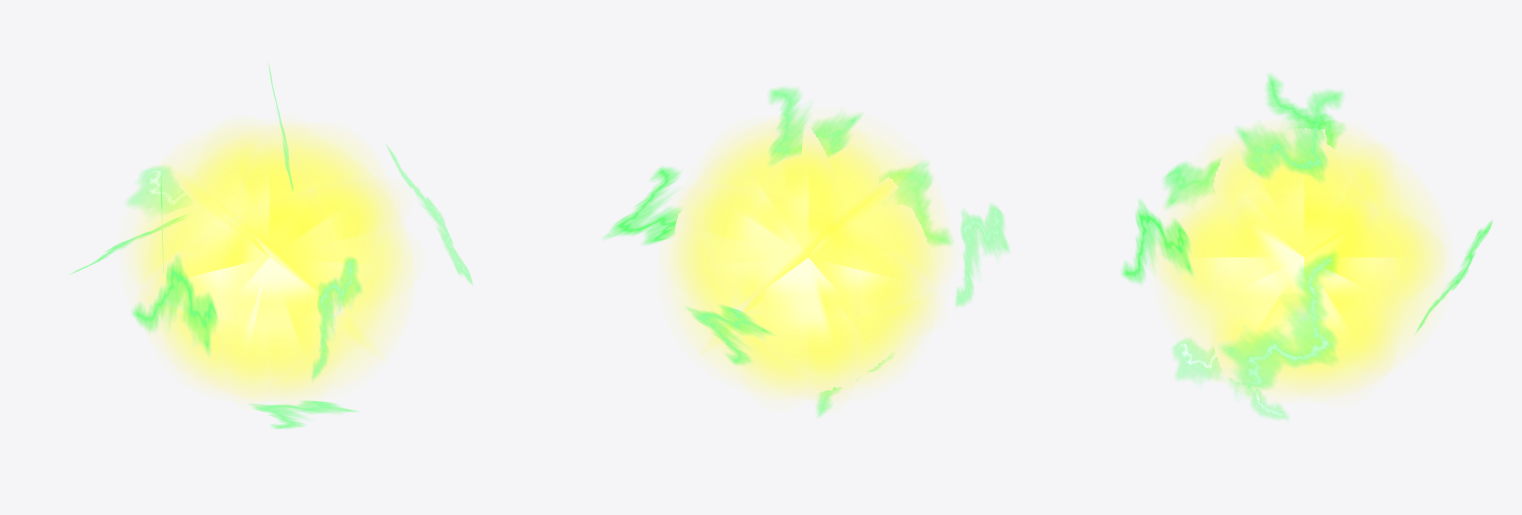
Rendered from explosive-orb.glb.
3 views of the same model, side by side, from view 1: azimuth 30°, elevation 25°; view 2: azimuth 150°, elevation 25°; view 3: azimuth 270°, elevation 25° (orthographic).
Visible parts, largest first — view 1: Plane.006_14, Plane.004_12, Plane.008_16, Plane.002_10, Plane.001_9, Plane.003_11, Plane.007_15, Plane.005_13, Plane.011_2, Plane.014_5, Plane.012_3, Plane.009_17 (+2 smaller); view 2: Plane.005_13, Plane.007_15, Plane.002_10, Plane.008_16, Plane.003_11, Plane.001_9, Plane.004_12, Plane.006_14, Plane_0, Plane.010_1, Plane.011_2, Plane.014_5 (+2 smaller); view 3: Plane.009_17, Plane.003_11, Plane.005_13, Plane.004_12, Plane.008_16, Plane.001_9, Plane.010_1, Plane.007_15, Plane.006_14, Plane_0, Plane.014_5, Plane.013_4 (+3 smaller).
Part boxes in pixels (x1,y1,x2,y2): Plane.006_14: [163, 157, 377, 377]; Plane.004_12: [151, 155, 385, 348]; Plane.008_16: [205, 153, 364, 366]; Plane.002_10: [170, 152, 344, 363]; Plane.001_9: [158, 234, 393, 310]; Plane.003_11: [234, 148, 327, 376]; Plane.007_15: [182, 193, 382, 277]; Plane.005_13: [229, 151, 295, 377]; Plane.011_2: [133, 257, 217, 352]; Plane.014_5: [312, 258, 361, 378]; Plane.012_3: [128, 166, 188, 213]; Plane.009_17: [187, 181, 364, 341]; Plane.005_13: [687, 156, 919, 358]; Plane.007_15: [712, 141, 919, 366]; Plane.002_10: [723, 154, 908, 365]; Plane.008_16: [720, 148, 885, 360]; Plane.003_11: [747, 150, 842, 381]; Plane.001_9: [692, 234, 927, 305]; Plane.004_12: [786, 155, 850, 382]; Plane.006_14: [700, 198, 915, 313]; Plane_0: [770, 88, 860, 163]; Plane.010_1: [605, 167, 681, 243]; Plane.011_2: [956, 205, 1008, 305]; Plane.014_5: [882, 163, 950, 244]; Plane.009_17: [1183, 162, 1412, 374]; Plane.003_11: [1196, 159, 1421, 338]; Plane.005_13: [1258, 162, 1381, 375]; Plane.004_12: [1230, 150, 1356, 372]; Plane.008_16: [1187, 206, 1416, 257]; Plane.001_9: [1182, 257, 1416, 307]; Plane.010_1: [1222, 253, 1336, 388]; Plane.007_15: [1224, 159, 1361, 349]; Plane.006_14: [1230, 169, 1376, 350]; Plane_0: [1237, 90, 1342, 179]; Plane.014_5: [1122, 201, 1192, 282]; Plane.013_4: [1173, 339, 1287, 418].
Bounding box in the file's own units: 2.6 × 2.33 × 2.27.
Materials: 2 (2 with a texture image).
